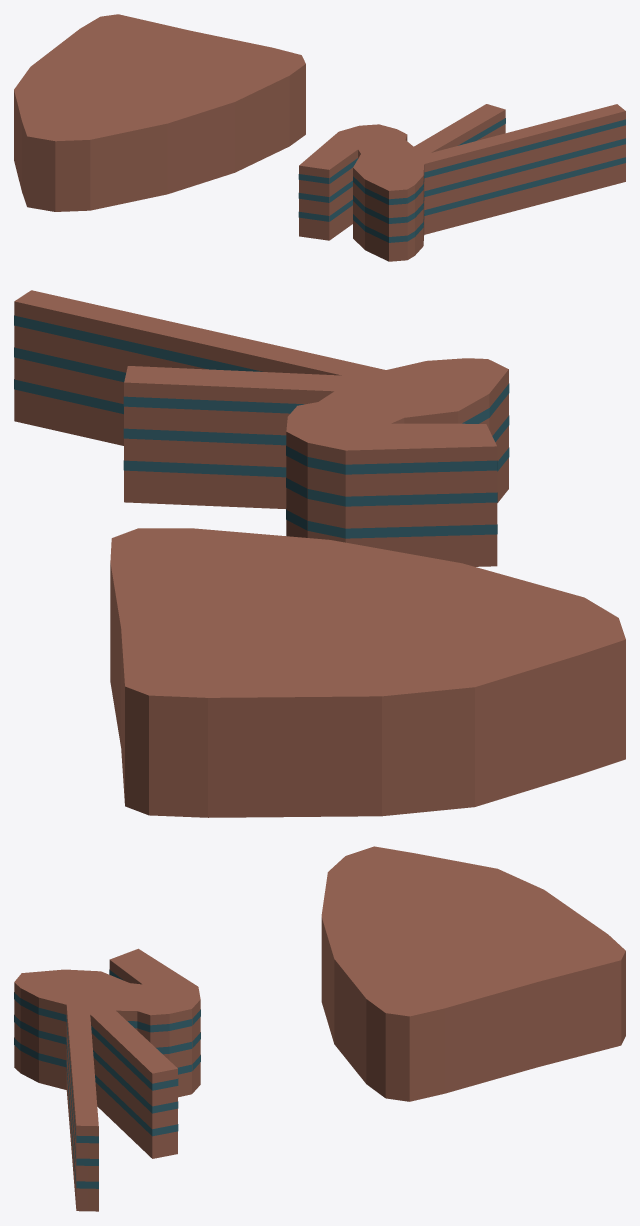
Rendered from city_2_4.glb.
3 views of the same model, one above another, from view 1: azimuth 30°, elevation 25°; view 2: azimuth 150°, elevation 25°; view 3: azimuth 270°, elevation 25° (orthographic). The views are drawn at different scales.
Visible parts, largest first — view 1: city_2_4; view 2: city_2_4; view 3: city_2_4.
Part boxes in pixels (left/top/right/bottom): city_2_4: left=14, top=14, right=625, bottom=261; city_2_4: left=14, top=290, right=625, bottom=817; city_2_4: left=14, top=846, right=625, bottom=1211.
Size of the model in its own units: 105 by 15 by 97.46.
